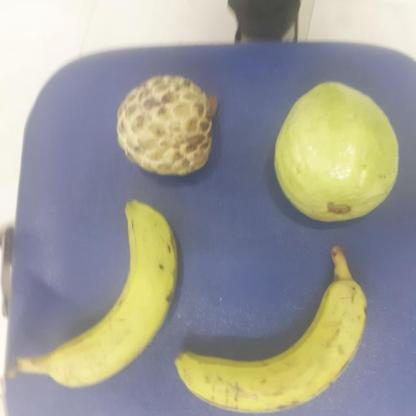annona: (116, 74, 221, 176)
banana: (177, 277, 374, 412), (48, 204, 182, 386)
guava: (277, 84, 407, 223)
